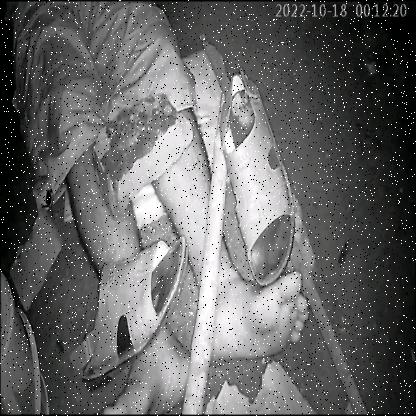leg: (154, 176, 312, 374)
